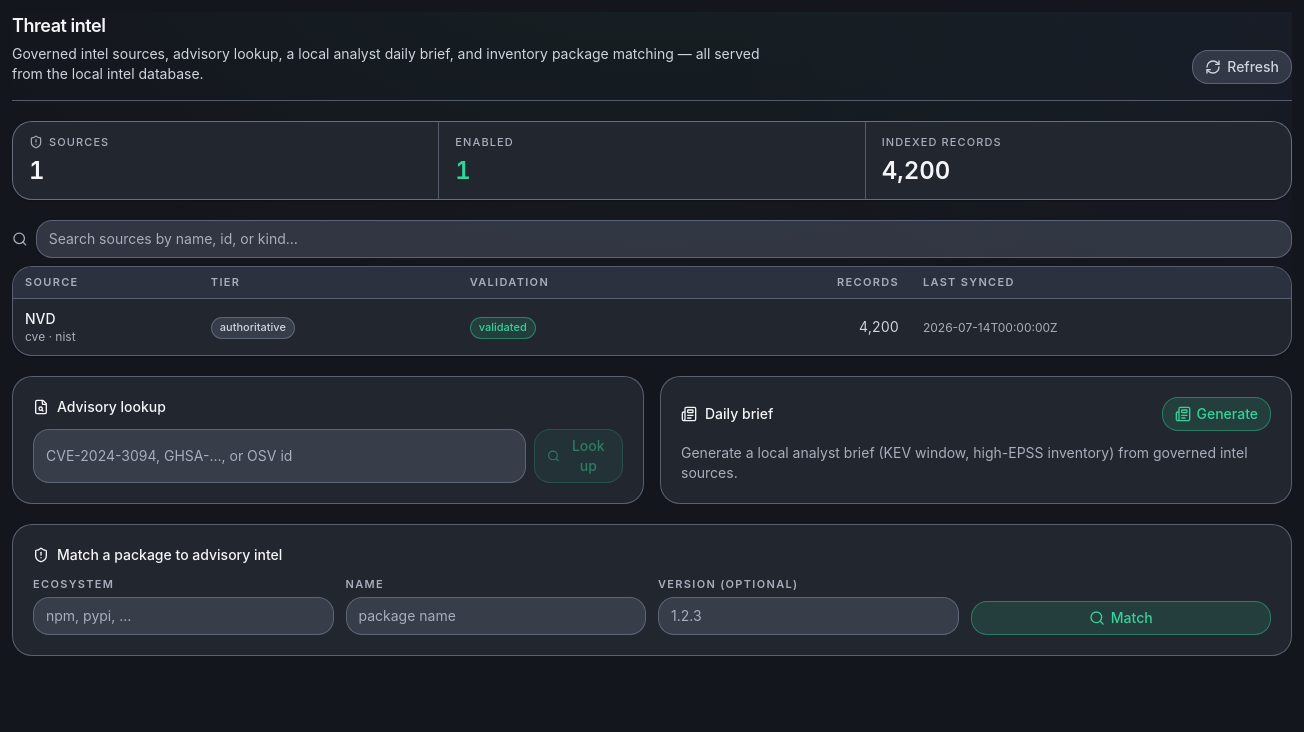
Test: IntelPanel › renders sources and filters by search
This screenshot has width=1304, height=732.
Expected: the text "NVD" is shown, [25,310,56,327]
In the field with test id "intel-source-search": [664, 238] box [36,220,1292,258], type "zzz-nomatch"
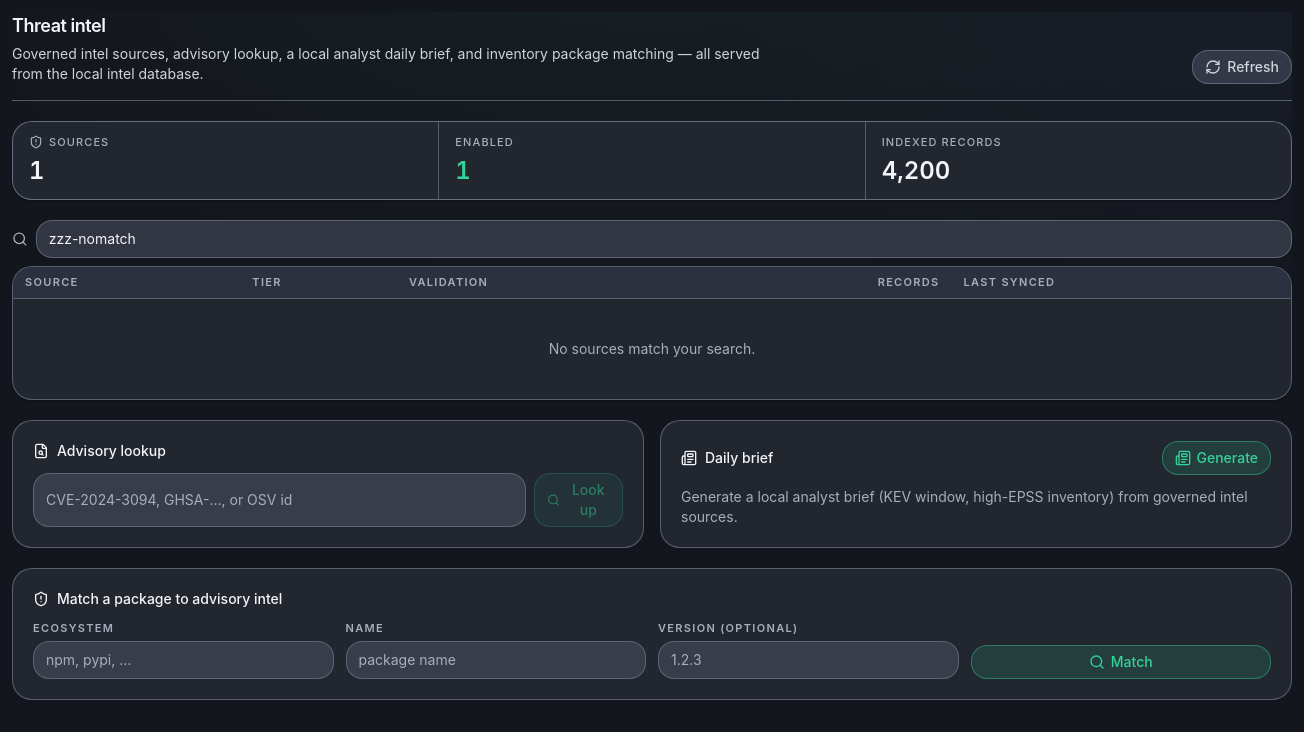
Now the text "NVD" is gone
